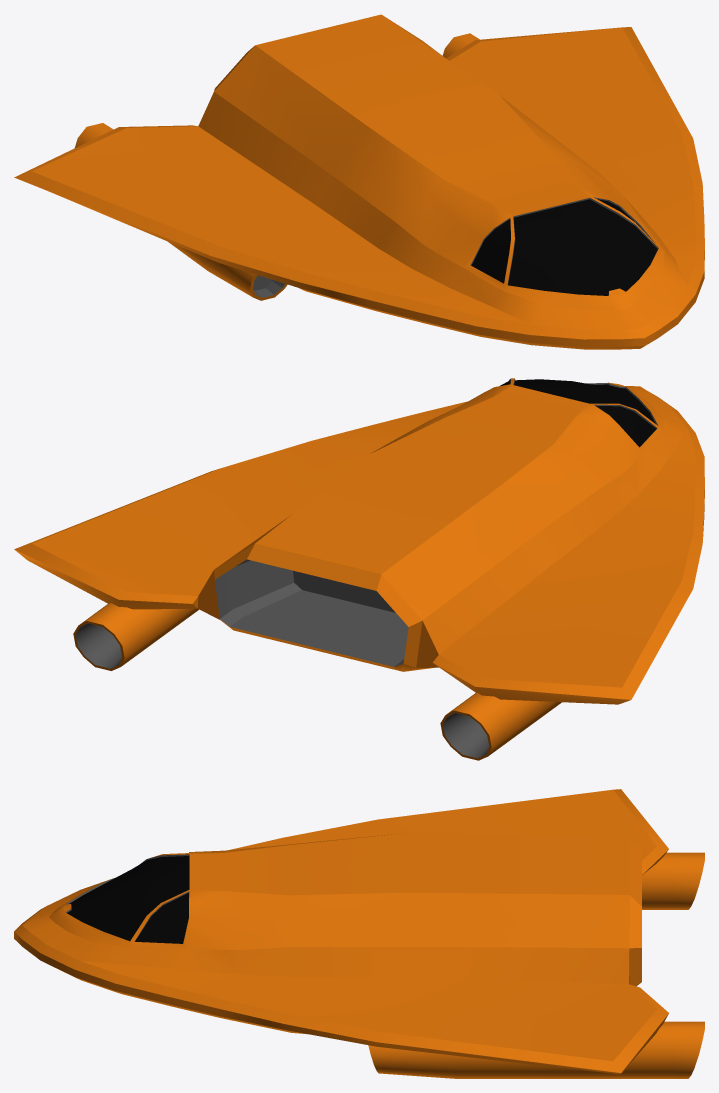
The model's file is ShipPlayerStealth.FBX.
3 views of the same model, one above another, from view 1: azimuth 30°, elevation 25°; view 2: azimuth 150°, elevation 25°; view 3: azimuth 270°, elevation 25° (orthographic). The views are drawn at different scales.
Parts seen in each view (by area): view 1: Ship Stealth; view 2: Ship Stealth; view 3: Ship Stealth.
Part boxes in pixels (x1,y1,x2,y2): Ship Stealth: (14, 14, 704, 349); Ship Stealth: (14, 378, 704, 760); Ship Stealth: (14, 789, 704, 1078).
Size of the model in its own units: 454 by 95.5 by 467.
